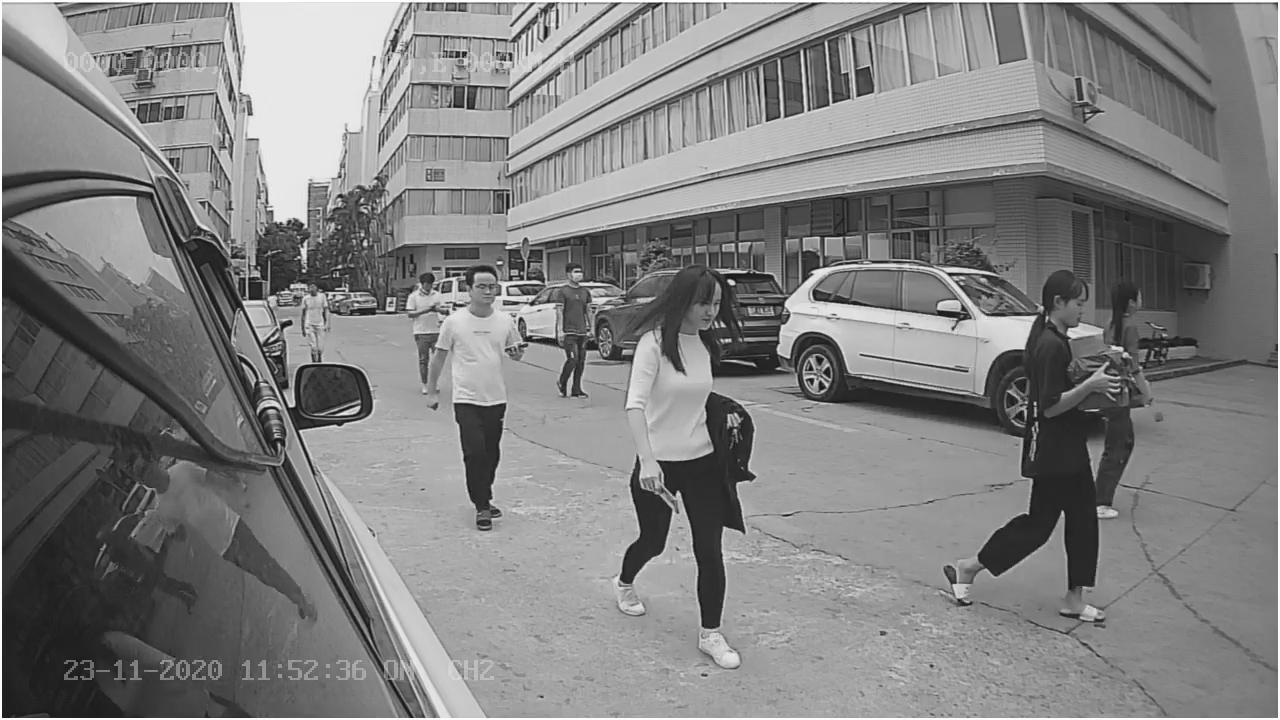person: (625, 265, 748, 664), (426, 257, 523, 528)
